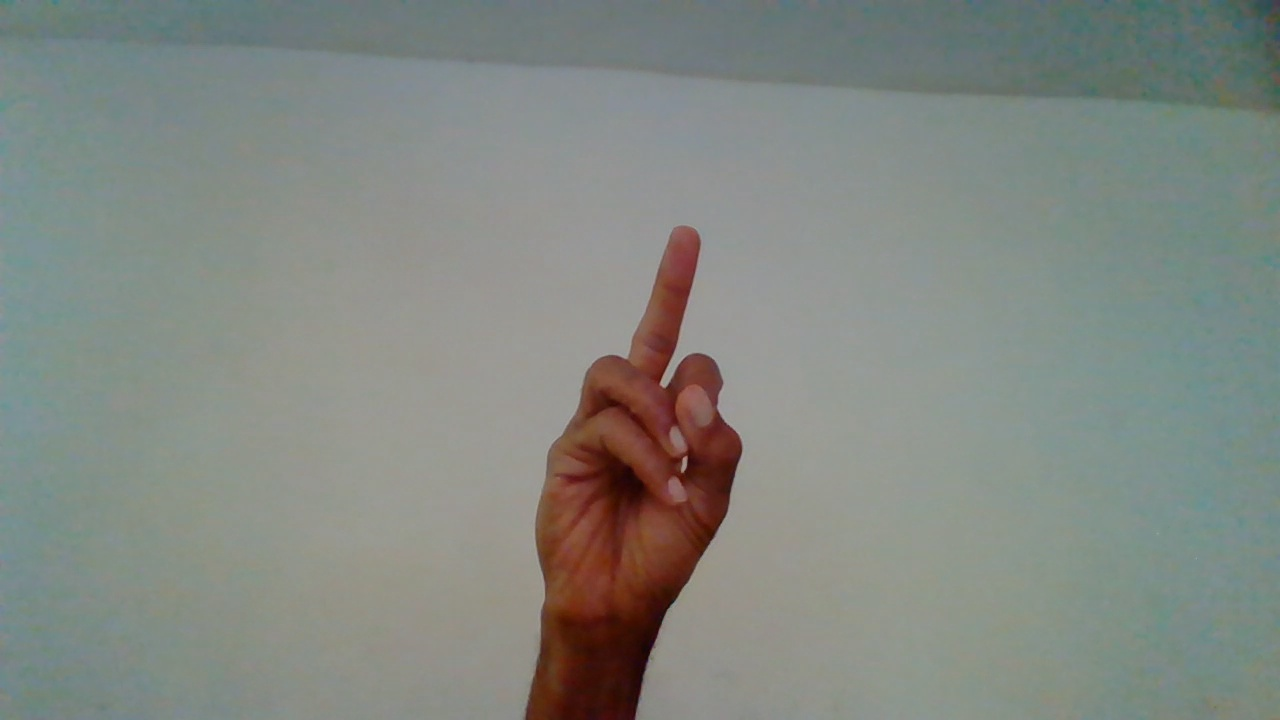he: (532, 225, 745, 716)
